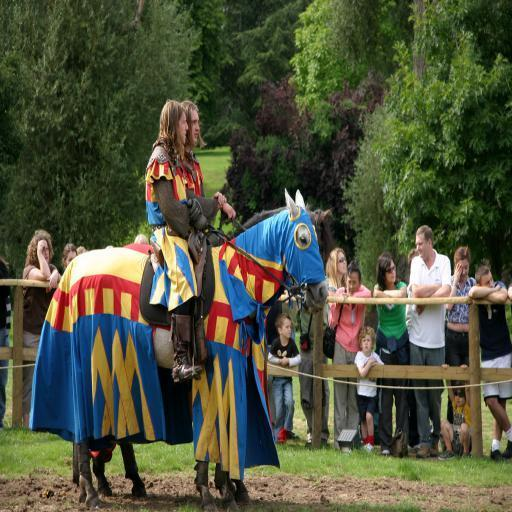horse: (73, 187, 330, 508)
